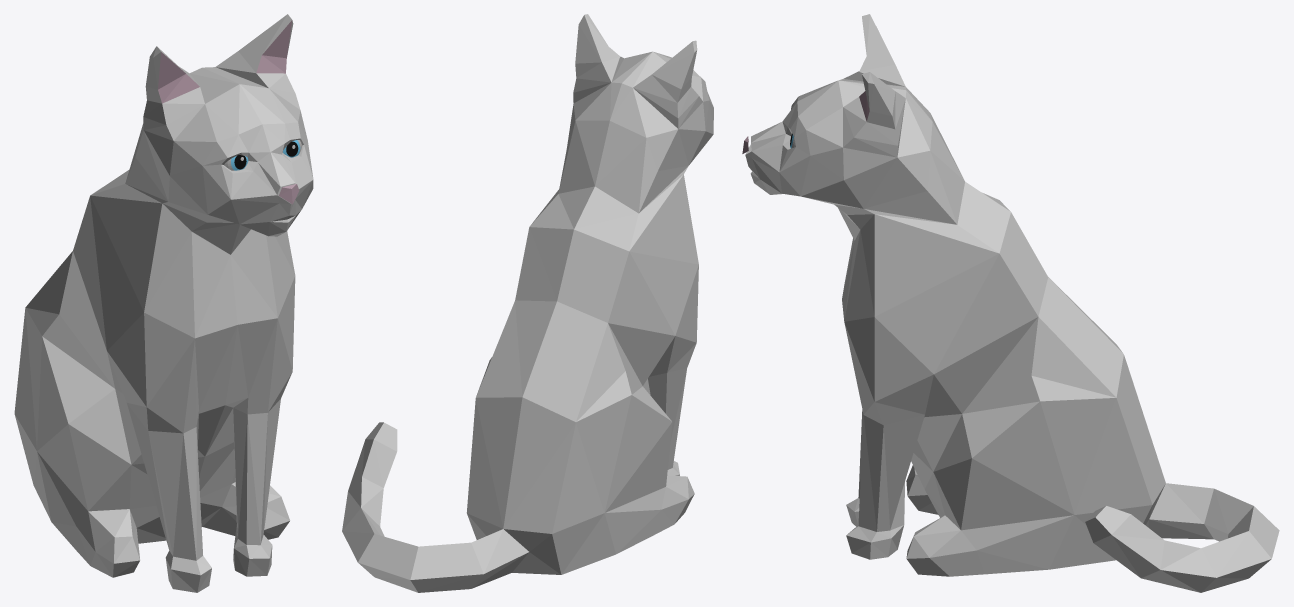
The model's file is Cat2.fbx.
3 views of the same model, side by side, from view 1: azimuth 30°, elevation 25°; view 2: azimuth 150°, elevation 25°; view 3: azimuth 270°, elevation 25° (orthographic). The views are drawn at different scales.
Visible parts, largest first — view 1: Cat2; view 2: Cat2; view 3: Cat2.
Boxes of the visible parts, box(x1,y1,x2,y2) form: Cat2: box(14, 14, 313, 592); Cat2: box(342, 14, 713, 592); Cat2: box(742, 14, 1279, 592).
Size of the model in its own units: 285 by 506 by 497.
